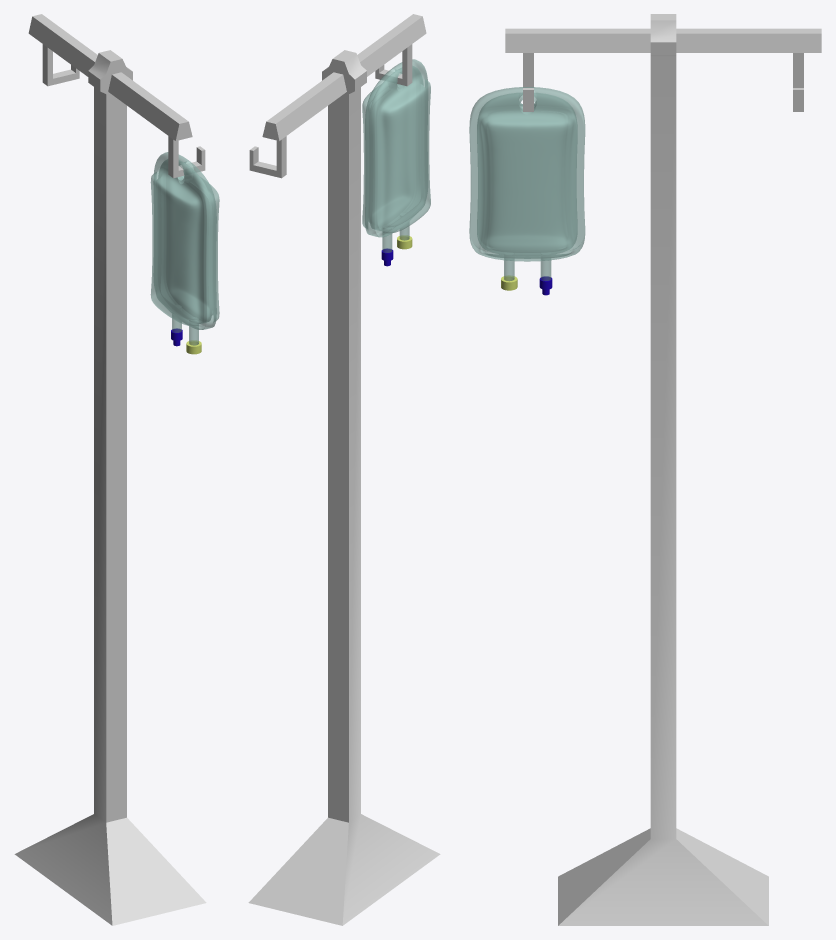
File: iv_bag.fbx
The picture shows the model from 3 angles, left to right: view 1: azimuth 30°, elevation 25°; view 2: azimuth 150°, elevation 25°; view 3: azimuth 270°, elevation 25°; orthographic projection. The views are drawn at different scales.
Visible parts, largest first — view 1: stander, IVBAG, haak; view 2: stander, IVBAG, haak; view 3: stander, IVBAG, haak.
Boxes of the visible parts, x1,y1,x2,y2 form: stander: (14, 14, 206, 925); IVBAG: (150, 152, 219, 329); haak: (42, 44, 205, 178); stander: (248, 14, 440, 925); IVBAG: (362, 59, 430, 237); haak: (249, 44, 412, 178); stander: (505, 14, 821, 925); IVBAG: (469, 87, 585, 261); haak: (523, 53, 803, 111).
Bounding box in the file's own units: 90.2 × 752 × 271.
